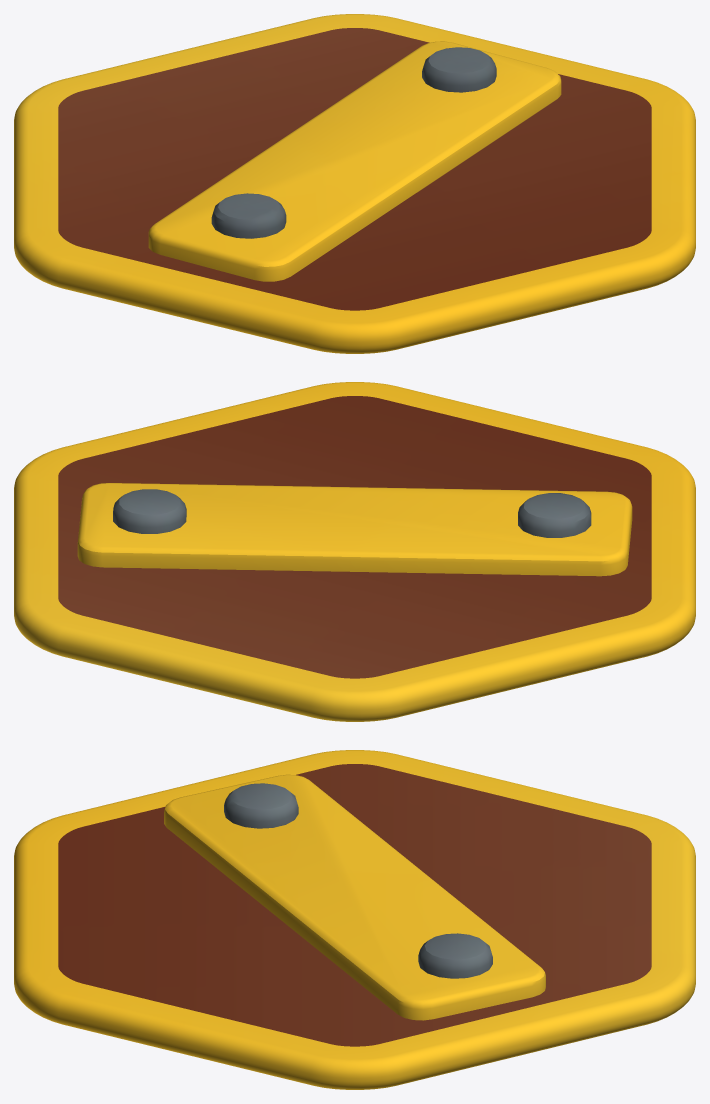
The model's file is Wooden.fbx.
3 views of the same model, one above another, from view 1: azimuth 30°, elevation 25°; view 2: azimuth 150°, elevation 25°; view 3: azimuth 270°, elevation 25° (orthographic).
Visible parts, largest first — view 1: Cylinder.006, Cube.007; view 2: Cylinder.006, Cube.007; view 3: Cylinder.006, Cube.007.
Part boxes in pixels (x1,y1,x2,y2): Cylinder.006: [14, 14, 695, 353]; Cube.007: [148, 41, 561, 281]; Cylinder.006: [14, 382, 695, 721]; Cube.007: [77, 483, 632, 576]; Cylinder.006: [14, 750, 695, 1089]; Cube.007: [164, 774, 545, 1020].
Bounding box in the file's own units: 36.04 × 3.43 × 32.47.
